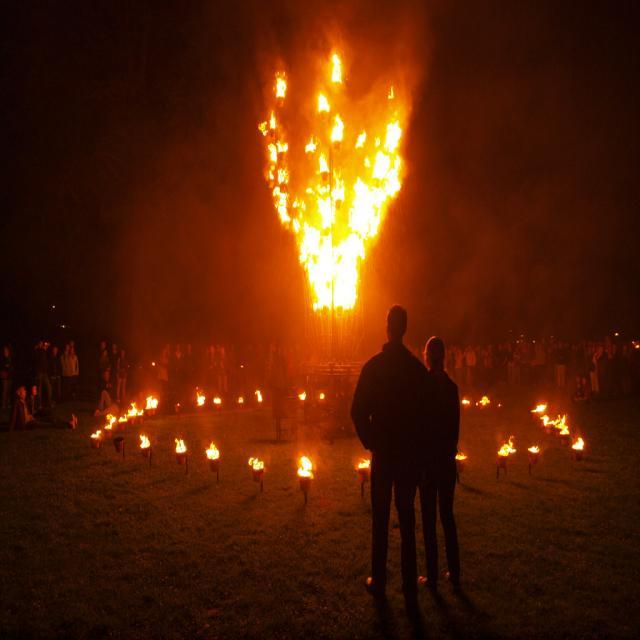Fire: (274, 52, 390, 308)
